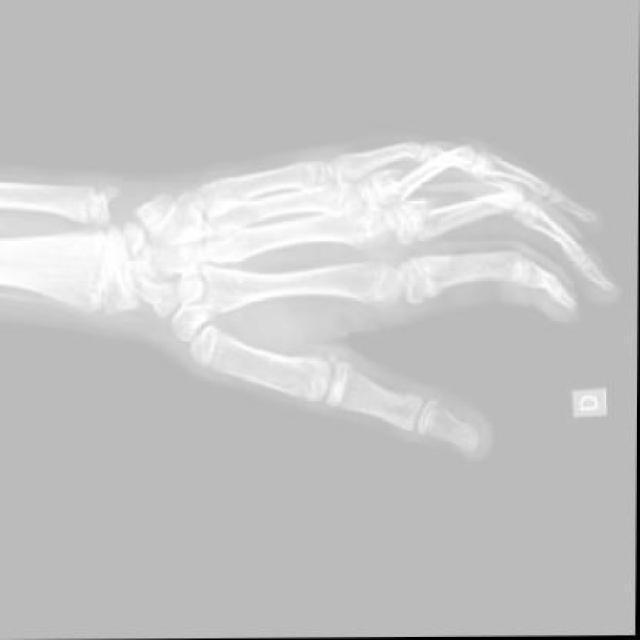Fracture: (397, 198, 451, 245), (375, 171, 425, 212)
